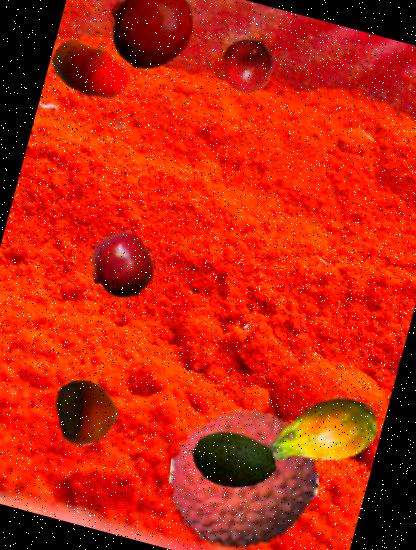Avocado: (181, 408, 286, 514)
Cactus: (248, 361, 391, 504)
Lychee: (153, 388, 335, 550)
Nectarine: (41, 20, 141, 120), (214, 33, 282, 100)
Nut: (47, 371, 128, 452)
Pomegranate: (96, 0, 203, 80), (81, 226, 162, 307)
